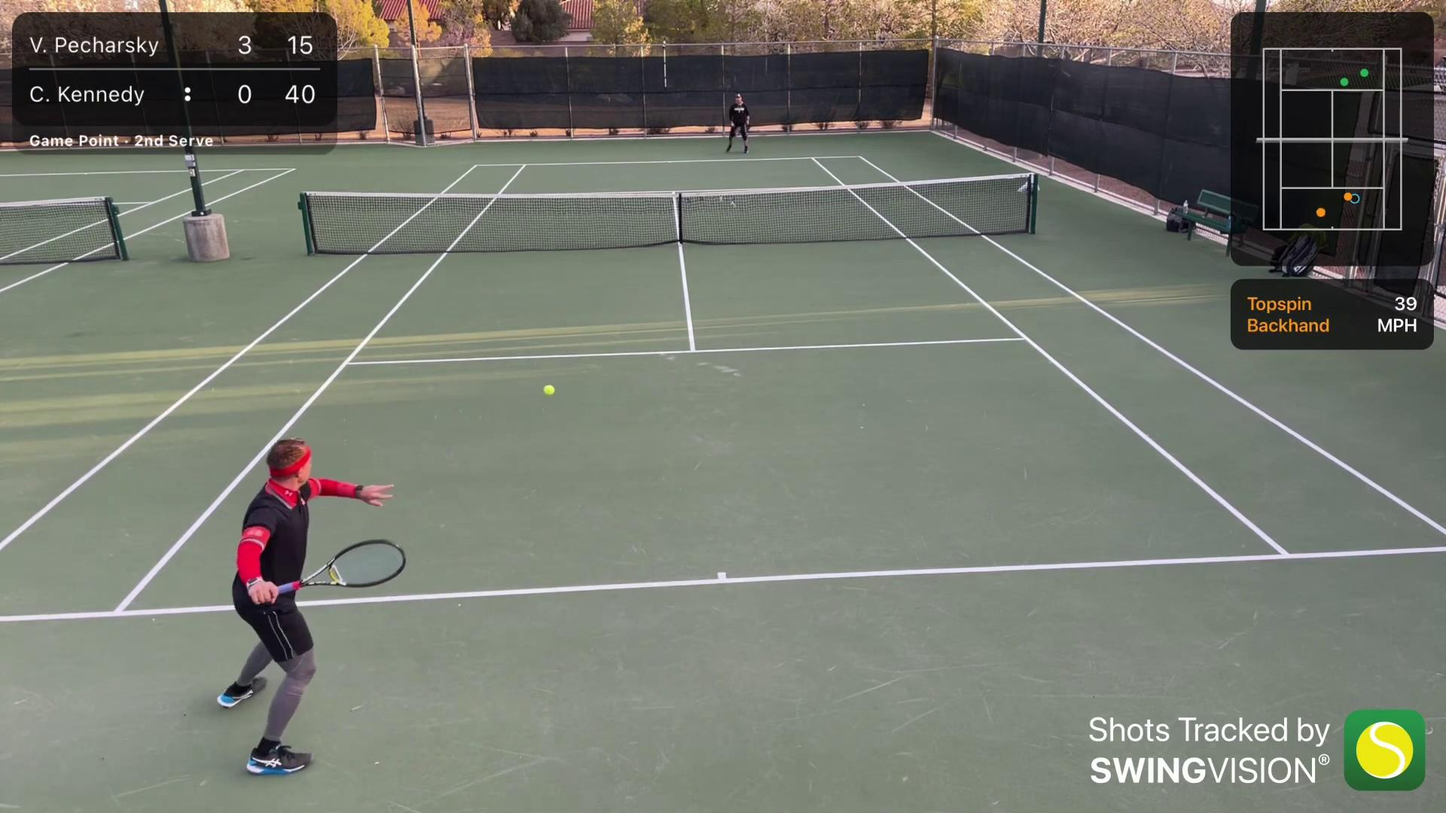ball: (540, 385, 559, 397), (188, 155, 191, 158)
